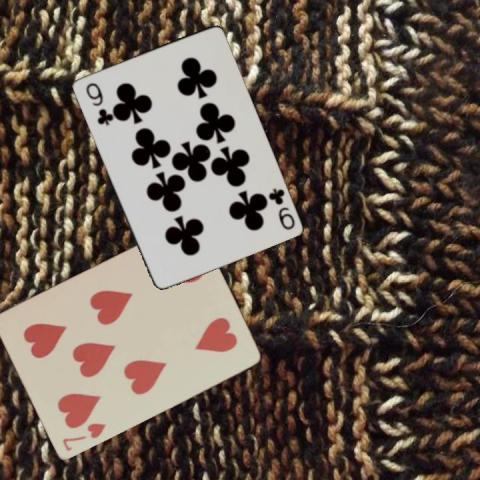7h: (59, 420, 107, 453)
9c: (265, 185, 296, 231), (82, 79, 111, 127)
